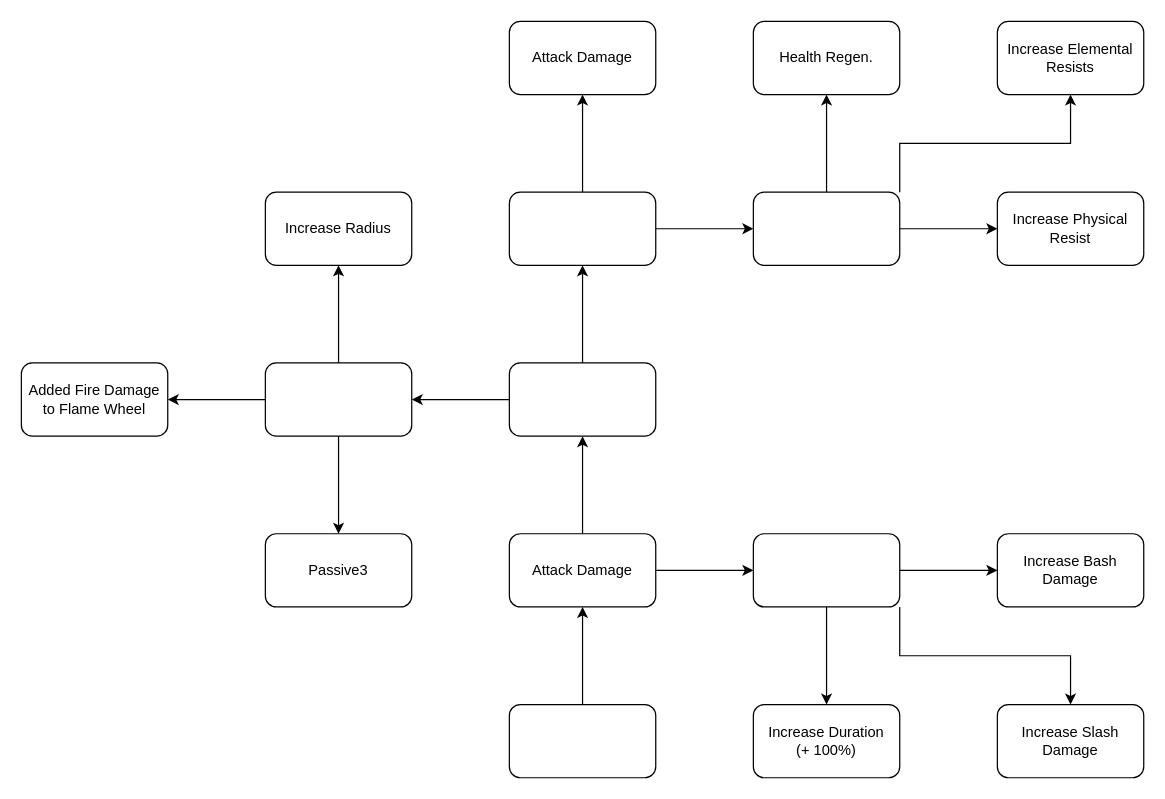
The diagram is 1165 pixels wide and 799 high, and some of its shapes have lost their labels. Each missing label, with the centre of its shape:
"Attack Damage Flat Health" belongs at (582,740).
"Fire Damage" belongs at (582,399).
"Flame Wheel - Radius - Fire Damage - Attack w/ Cooldown" belongs at (338,399).
"Health" belongs at (582,228).
"Master of Arms - Give Attack Damage - Buff (10 sec)" belongs at (826,570).
"Thick Skin - Defensive Aura - Health" belongs at (826,228).
